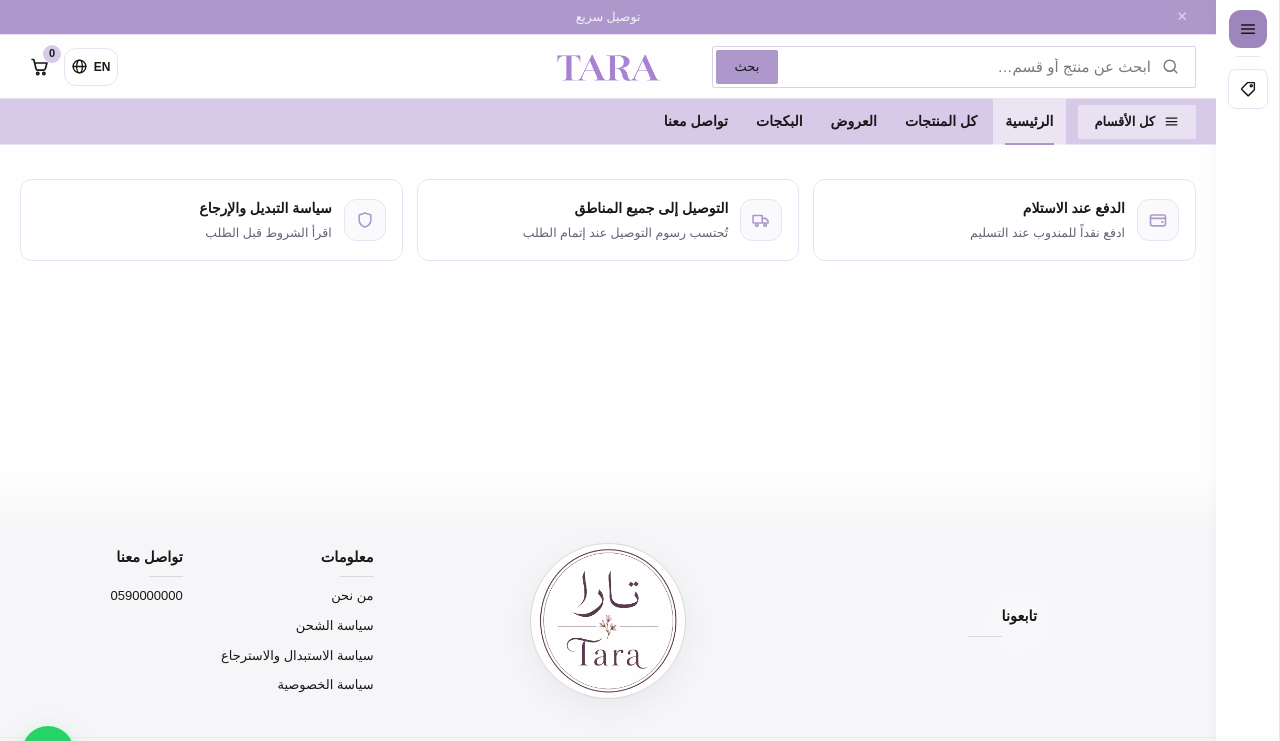
Test: category navigation › links each category to its own route and closes the drawer on navigation
This screenshot has width=1280, height=741.
Click the button "كل الأقسام". click: [1137, 122]
box: x1=1078 y1=104 x2=1196 y2=138
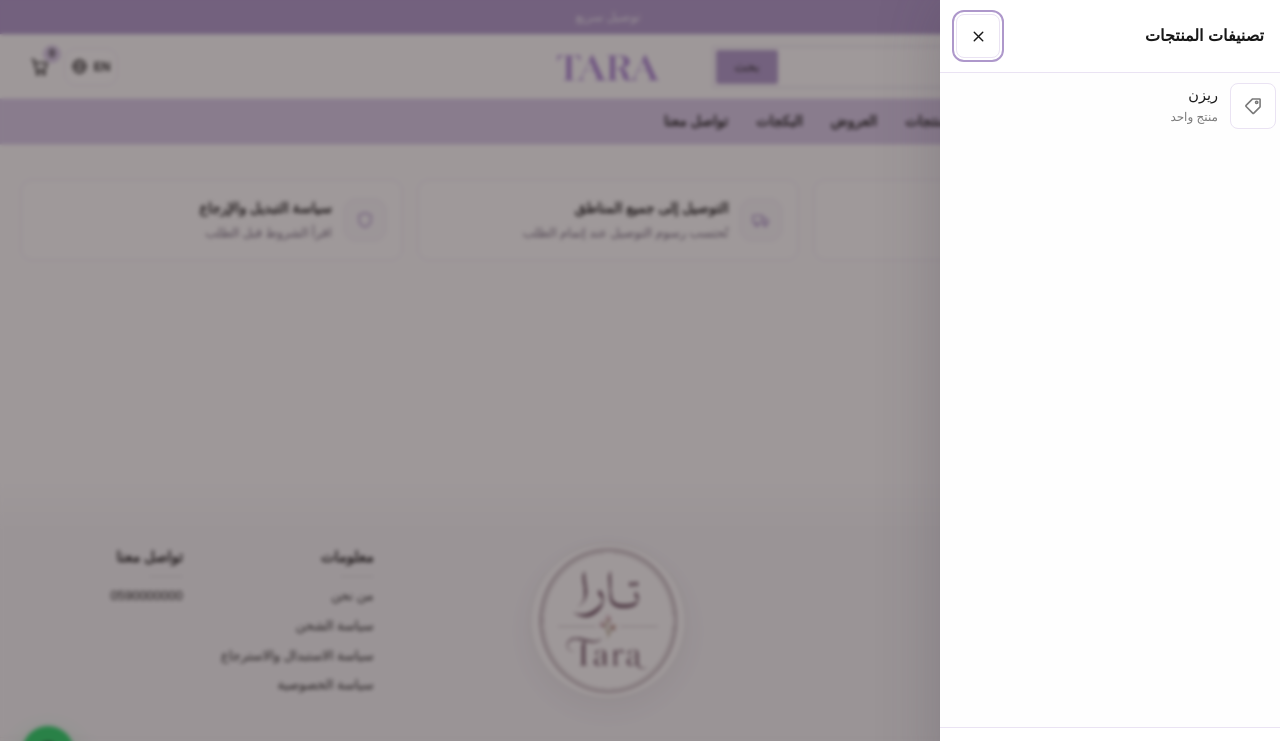
Click the link "ريزن منتج واحد". click: [1253, 106]
box: x1=1170 y1=83 x2=1276 y2=129
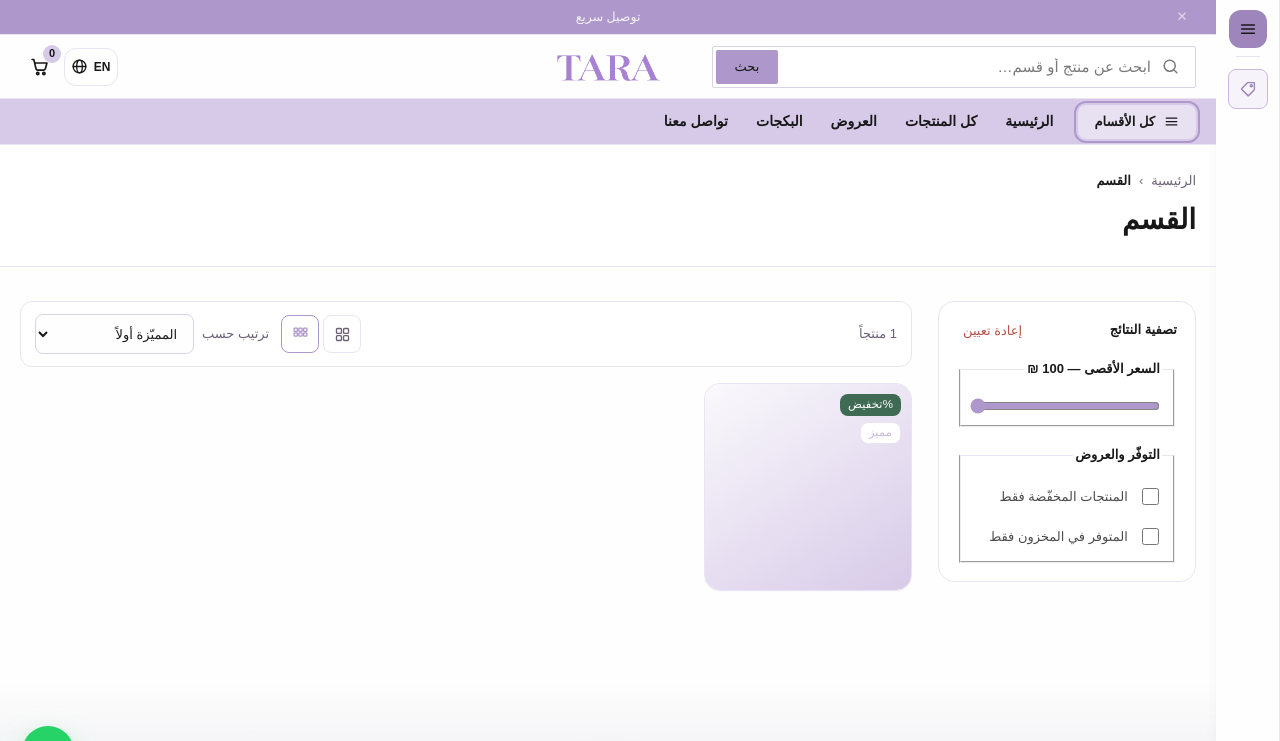
Expected: no dialogs are shown
